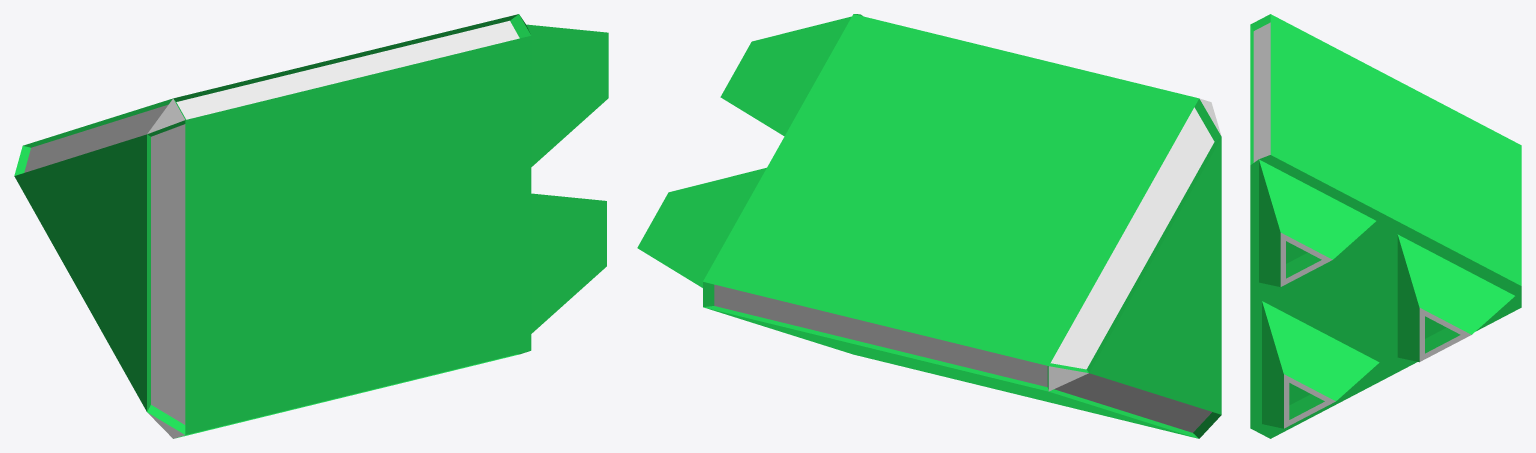
File: Shotgun.fbx
3 renders of one model, left to right at view 1: azimuth 30°, elevation 25°; view 2: azimuth 150°, elevation 25°; view 3: azimuth 270°, elevation 25°, orthographic. The views are drawn at different scales.
Visible parts, largest first — view 1: Cylinder; view 2: Cylinder; view 3: Cylinder.
Part boxes in pixels (x1,y1,x2,y2): Cylinder: (14,14,608,438); Cylinder: (637,14,1221,438); Cylinder: (1250,14,1521,438).
Bounding box in the file's own units: 96.89 × 67.68 × 58.61.
